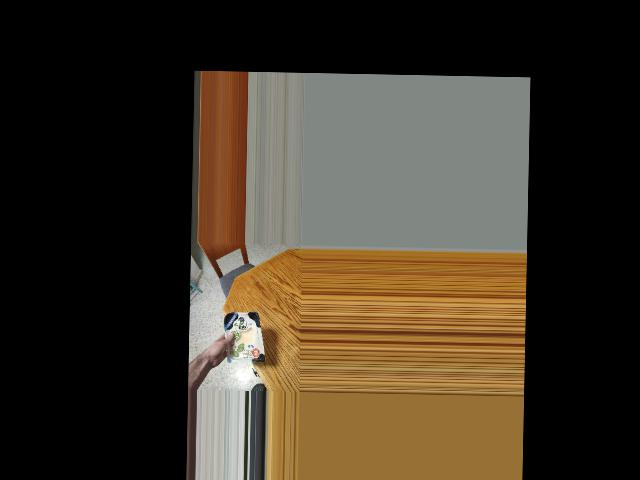cheese: (220, 304, 266, 368)
